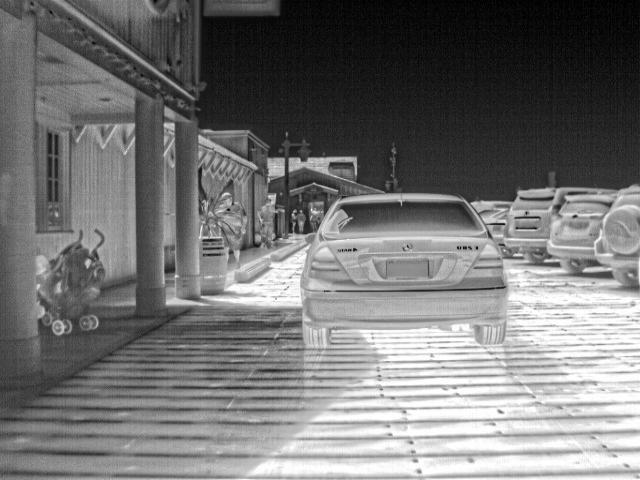car: (299, 190, 512, 352), (505, 186, 619, 264), (546, 195, 614, 274), (600, 184, 640, 290), (468, 199, 514, 213), (490, 209, 507, 246), (482, 207, 508, 224)
person: (218, 191, 248, 268), (257, 196, 279, 245), (294, 207, 307, 235), (290, 207, 303, 234)
